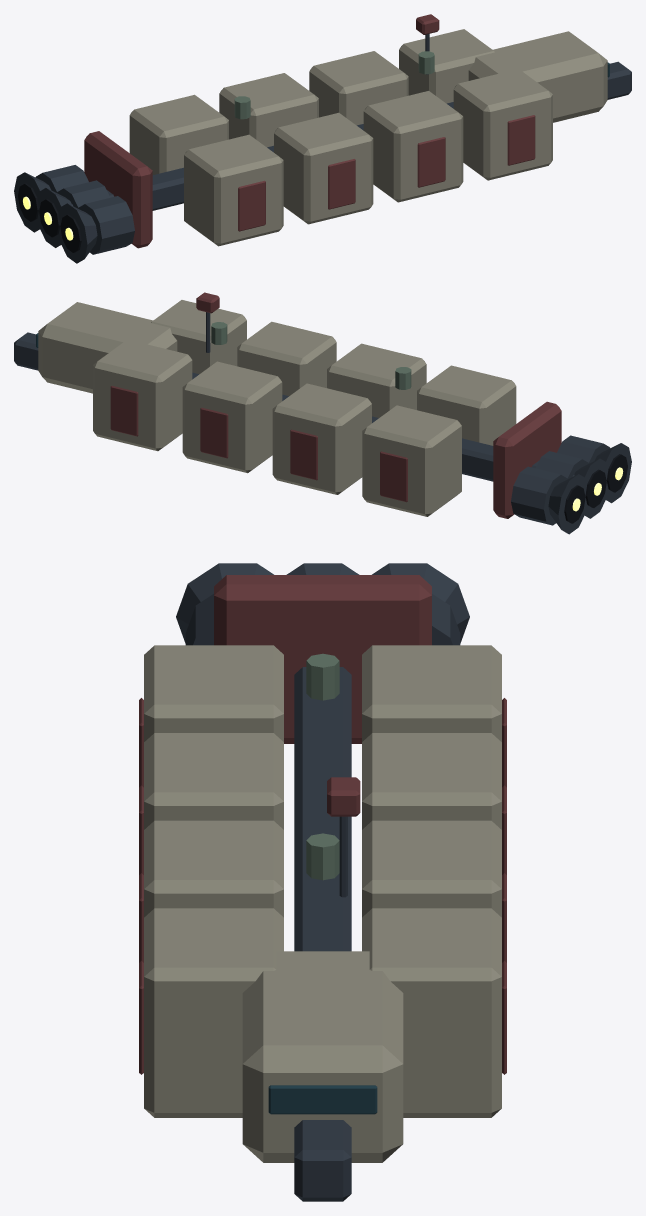
The model's file is due-process.glb.
3 renders of one model, top to bottom at view 1: azimuth 30°, elevation 25°; view 2: azimuth 150°, elevation 25°; view 3: azimuth 270°, elevation 25°, orthographic. The views are drawn at different scales.
Visible parts, largest first — view 1: detention module, detention module.002, detention module.001, detention module.003, forward command, detention module.004, detention module.006, detention module.005, reactor shield, detention module.007, engine jacket, structural spine (+15 smaller); view 2: detention module.004, detention module.006, detention module.005, detention module.007, forward command, detention module, detention module.002, detention module.001, reactor shield, detention module.003, engine jacket.002, structural spine (+15 smaller); view 3: forward command, detention module.003, detention module.007, reactor shield, structural spine, detention module.002, detention module.006, detention module, detention module.004, detention module.001, detention module.005, bridge glazing (+7 smaller).
Part boxes in pixels (box(x1,y1,x2,y2)): detention module: box(184, 134, 283, 246); detention module.002: box(363, 91, 463, 202); detention module.001: box(274, 112, 373, 224); detention module.003: box(453, 69, 552, 180); forward command: box(468, 31, 607, 122); detention module.004: box(129, 94, 228, 174); detention module.006: box(309, 51, 408, 125); detention module.005: box(219, 73, 318, 147); reactor shield: box(84, 131, 152, 248); detention module.007: box(399, 29, 494, 103); engine jacket: box(78, 196, 134, 254); structural spine: box(71, 61, 631, 210); detention module.004: box(362, 405, 461, 516); detention module.006: box(182, 361, 282, 473); detention module.005: box(272, 383, 371, 494); detention module.007: box(93, 339, 192, 451); forward command: box(38, 302, 177, 393); detention module: box(417, 365, 516, 445); detention module.002: box(237, 321, 336, 396); detention module.001: box(327, 343, 426, 417); reactor shield: box(493, 401, 561, 518); detention module.003: box(151, 300, 246, 374); engine jacket.002: box(511, 466, 567, 525); structural spine: box(14, 332, 574, 481); forward command: box(242, 951, 403, 1162); detention module.003: box(144, 908, 283, 1117); detention module.007: box(362, 908, 501, 1117); reactor shield: box(214, 575, 431, 743); structural spine: box(294, 667, 351, 1201); detention module.002: box(144, 820, 283, 917); detention module.006: box(362, 820, 501, 917); detention module: box(144, 645, 283, 741); detention module.004: box(362, 645, 501, 741); detention module.001: box(144, 733, 283, 829); detention module.005: box(362, 733, 501, 829); bridge glazing: box(268, 1085, 377, 1114).
Size of the model in its own units: 12.91 by 2.79 by 3.55.
